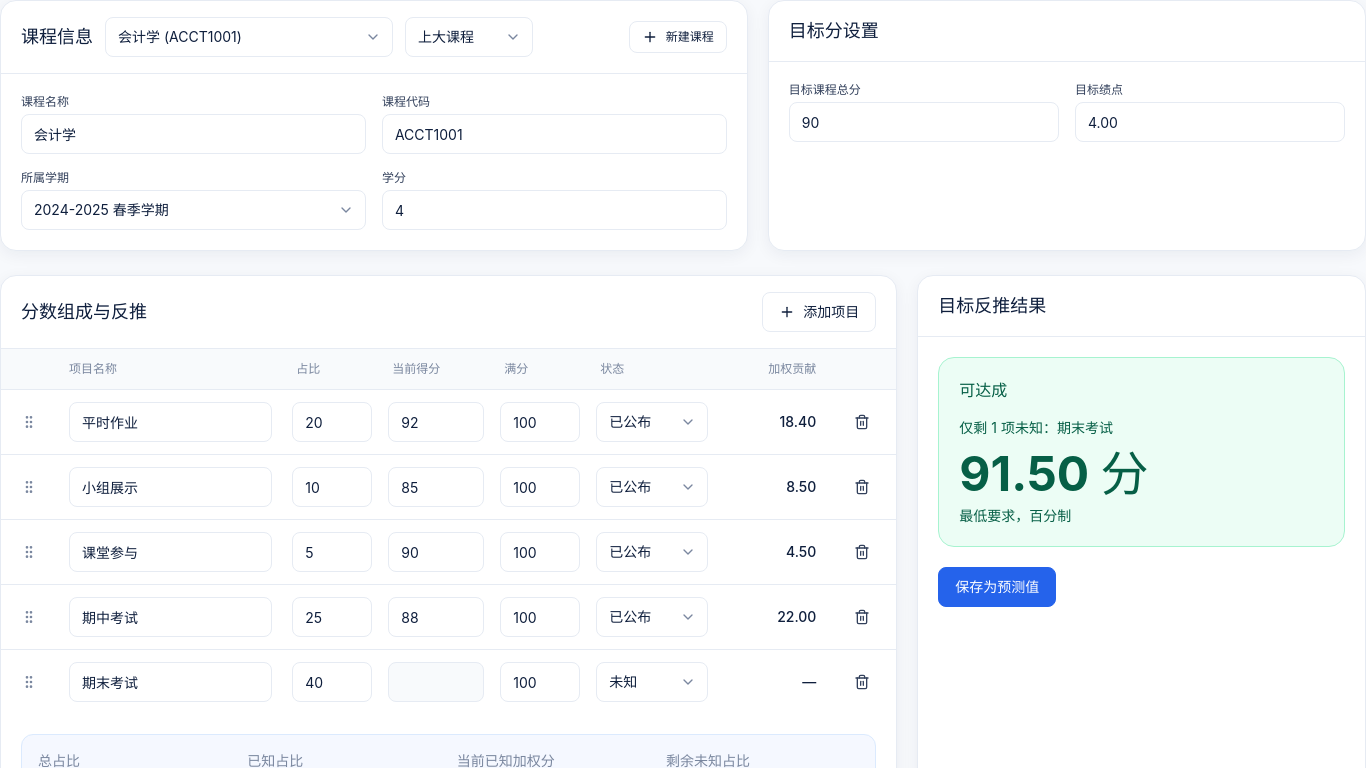
it: GradePilot UI › updates reverse solve result when target changes
Expected: the text "91.50 分" is shown, [959, 444, 1148, 503]
Replace the text in the number field labelled "目标课程总分" with "92": (924, 122) [789, 102, 1059, 142]
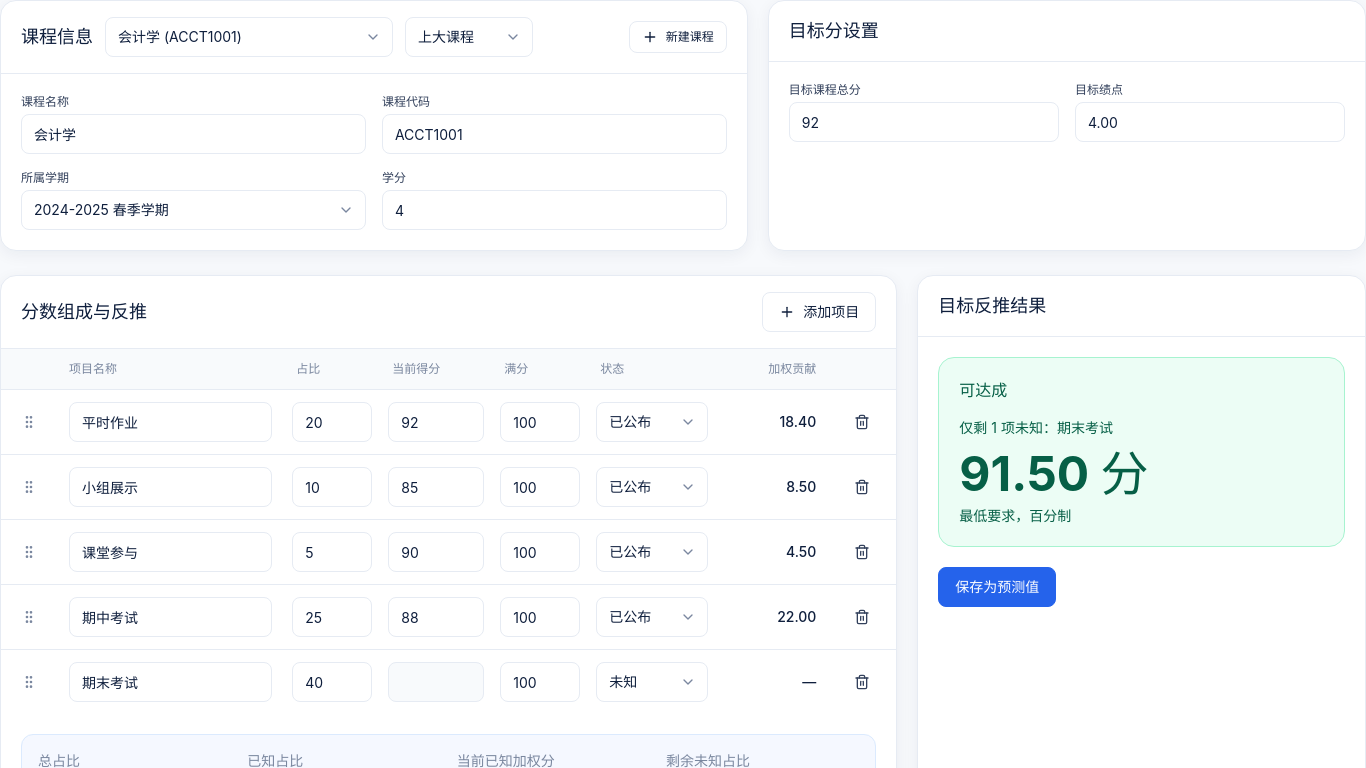
Leave the number field labelled "目标课程总分", box [789, 102, 1059, 142]
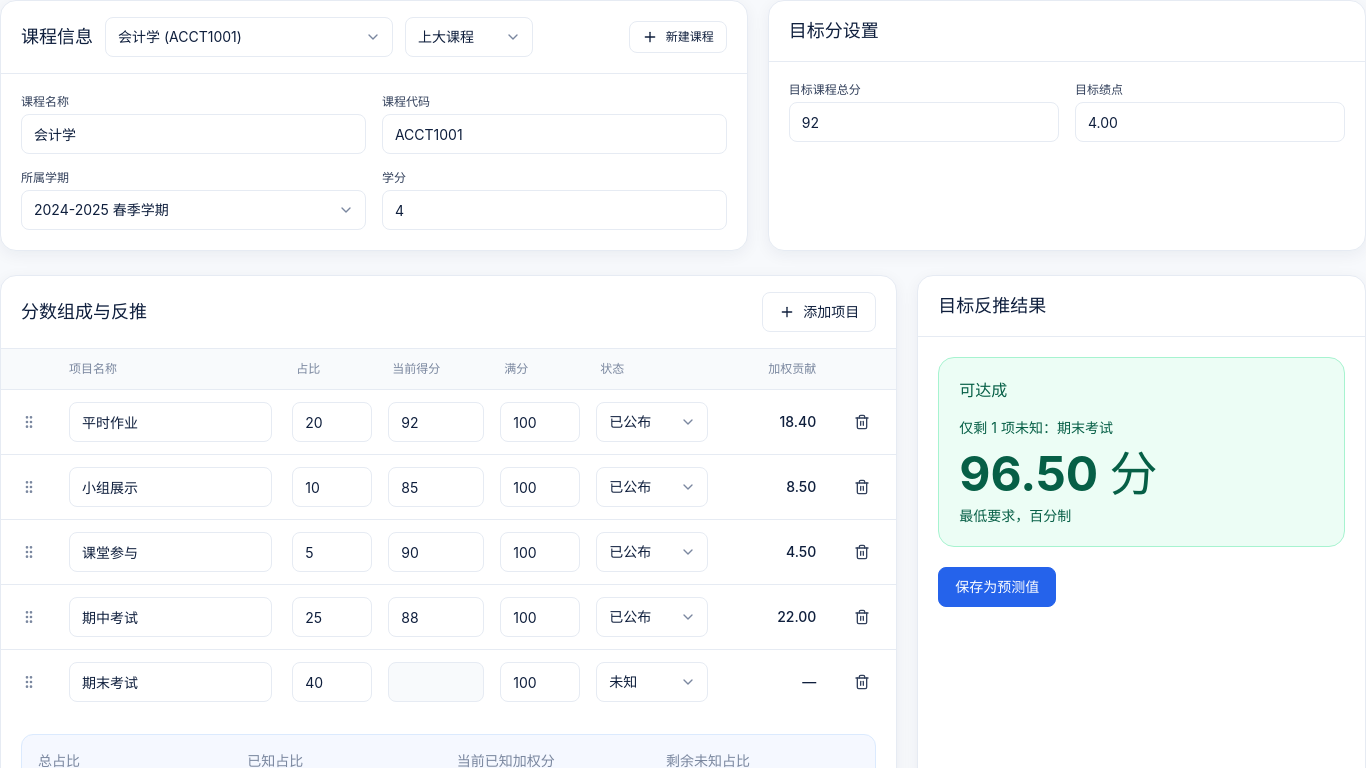
Result: the text "96.50 分" is shown at [959, 444, 1158, 503]
